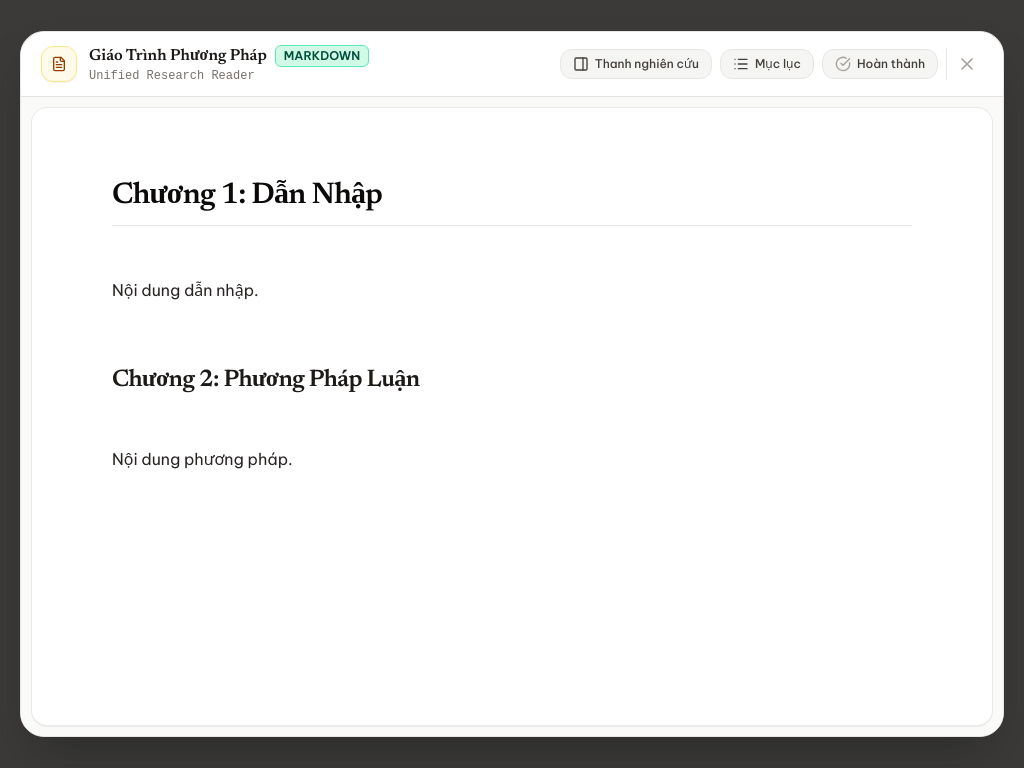
Test case: Phase R3: Same-Document Note to Reader Deep Navigation (Integration) › 1. performs 1-click jump-back from ReaderSidebar note card to Markdown heading with toast feedback
This screenshot has width=1024, height=768.
Note: Open sidebar & switch to Notes tab
Click the button with test id "reader-toggle-sidebar-btn" at x=636, y=64, box x1=560 y1=49 x2=712 y2=79
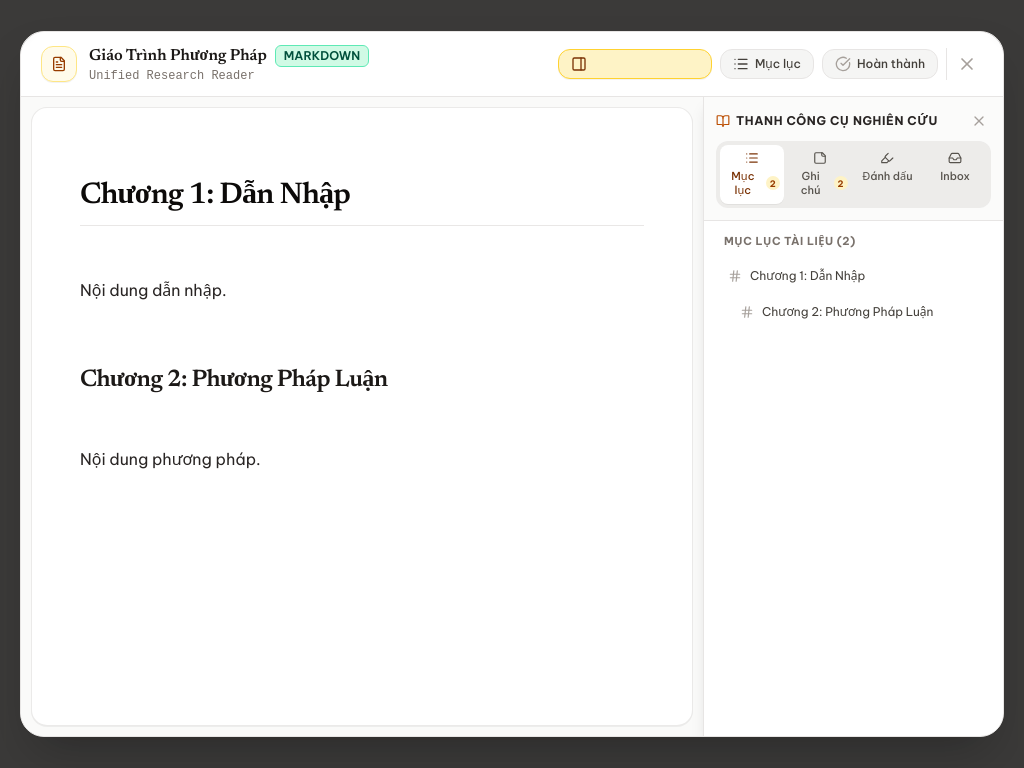
Click the tab with test id "sidebar-tab-notes" at x=820, y=174, box x1=788 y1=145 x2=852 y2=204
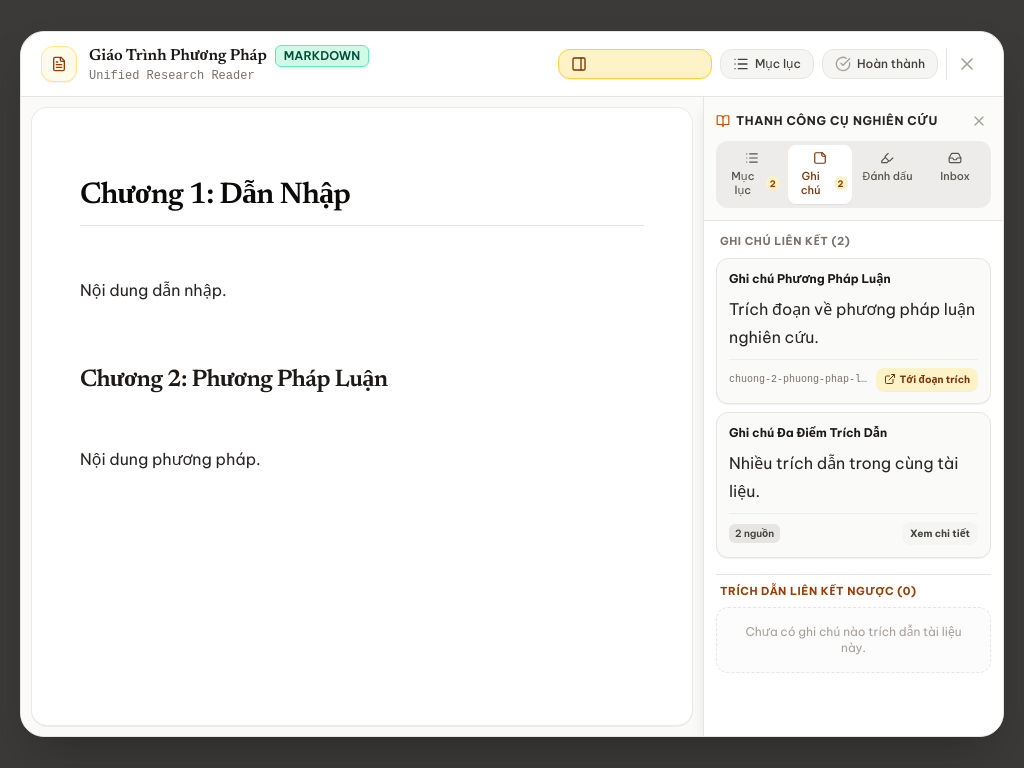
Expected: the element with test id "sidebar-panel-notes" is shown, x1=716 y1=233 x2=991 y2=673
Expected: the button "Tới đoạn trích" is shown
Click the button "Tới đoạn trích" at x=927, y=379, box x1=876 y1=368 x2=978 y2=390
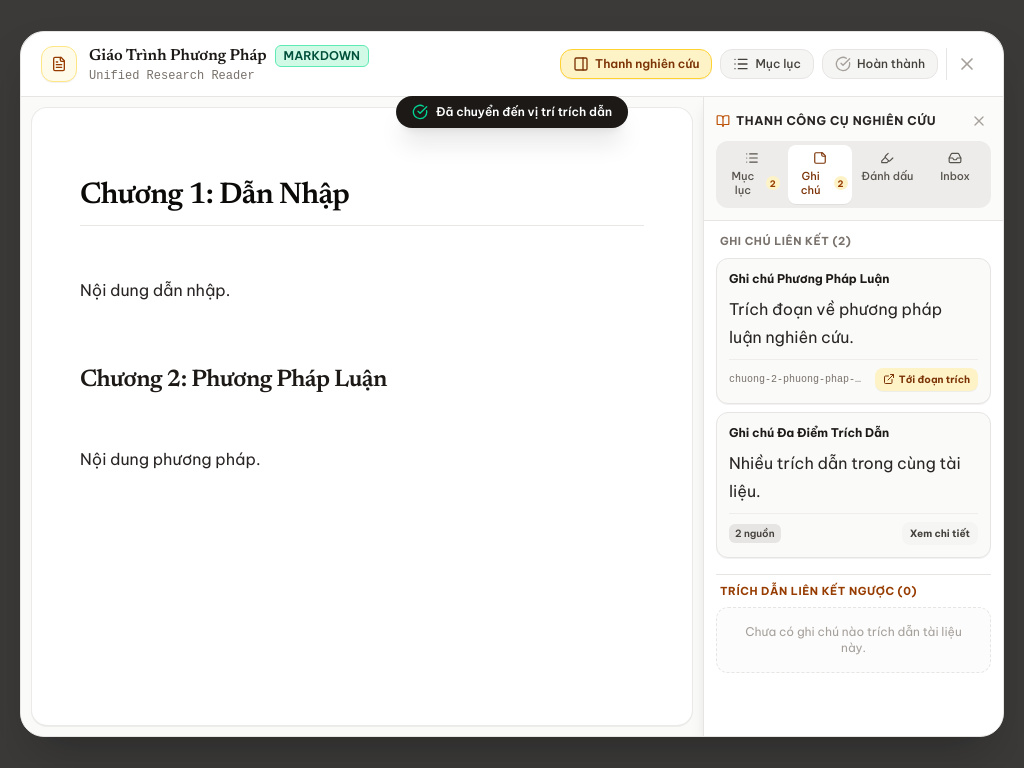
Expected: the text "Đã chuyển đến vị trí trích dẫn" is shown, x1=436 y1=104 x2=612 y2=120
